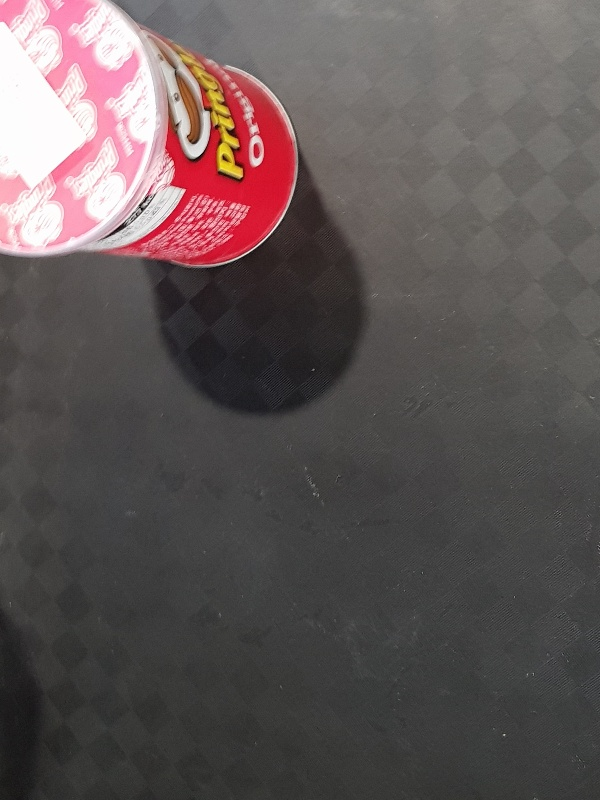Pringles Original: (1, 1, 297, 269)
